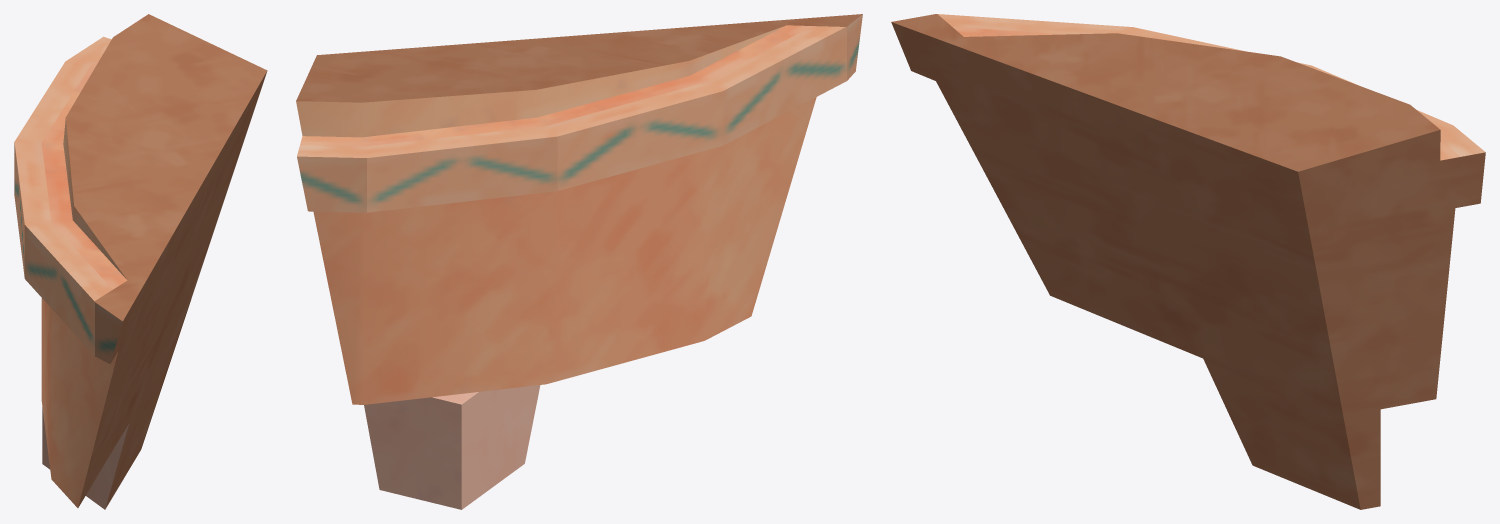
File: dome_s03.fbx
The picture shows the model from 3 angles, left to right: view 1: azimuth 30°, elevation 25°; view 2: azimuth 150°, elevation 25°; view 3: azimuth 270°, elevation 25°; orthographic projection. The views are drawn at different scales.
Parts seen in each view (by area): view 1: dome_s03; view 2: dome_s03; view 3: dome_s03.
Boxes of the visible parts, <box> form: dome_s03: <box>14,14,267,509</box>; dome_s03: <box>296,14,862,509</box>; dome_s03: <box>891,14,1485,509</box>.
Size of the model in its own units: 3.7 by 4 by 5.34.
